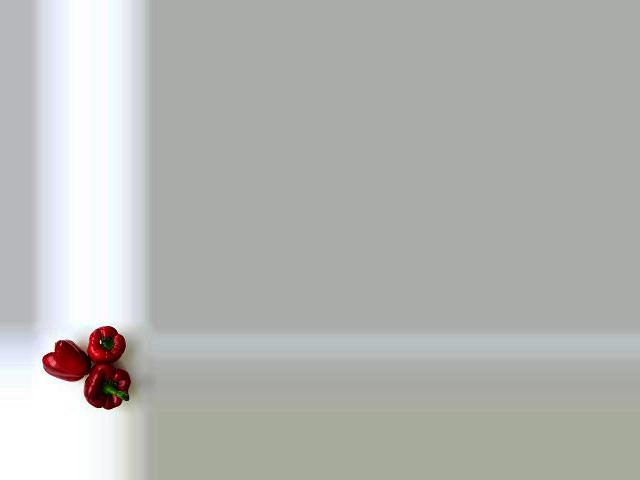bell_pepper: (36, 331, 92, 385)
